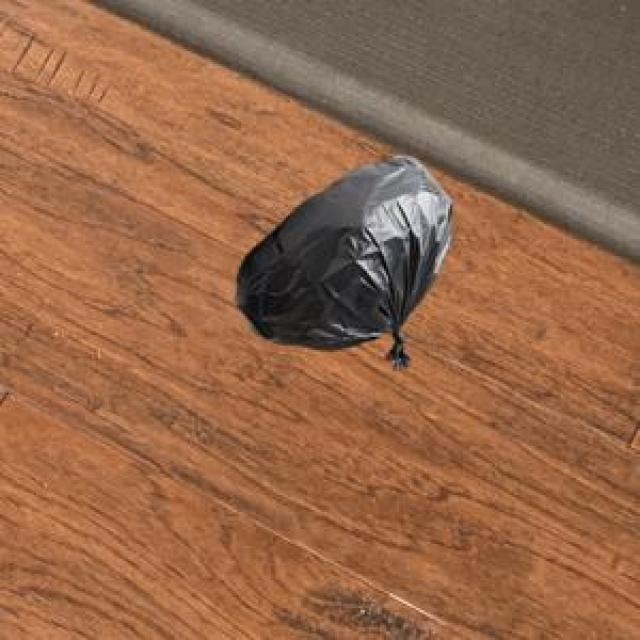Vinyl: (238, 156, 452, 367)
